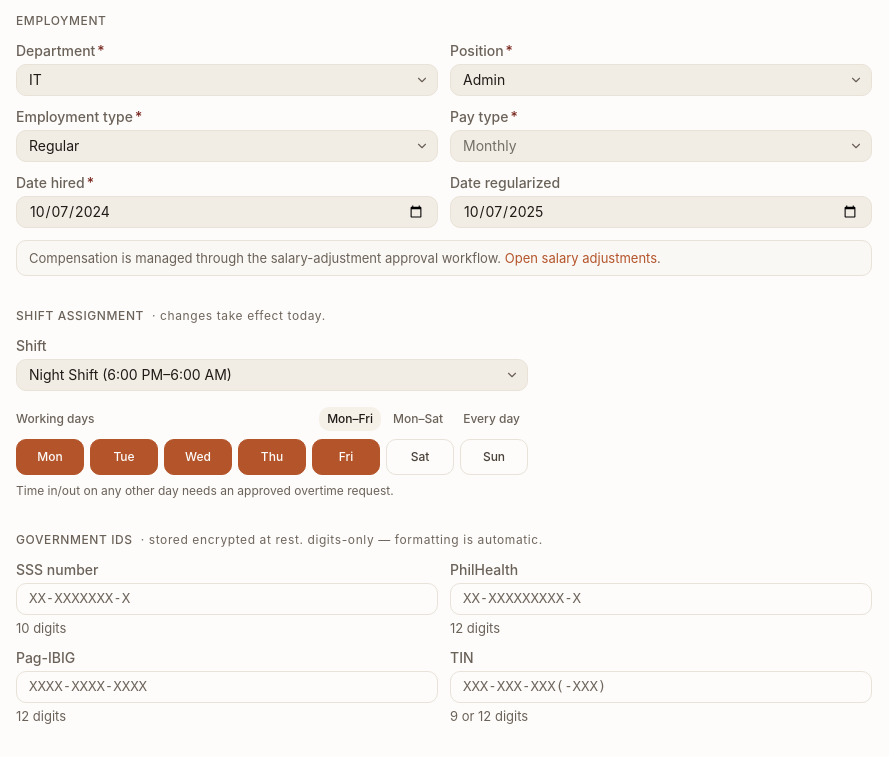
Test: EmployeeForm edit mode › explains a shift change and its start date
This screenshot has width=889, height=757.
(page scrolled)
Select "Day Shift (6:00 AM–2:00 PM)" in the dropdown labelled "Shift" at (272, 375), box [17,360,527,390]
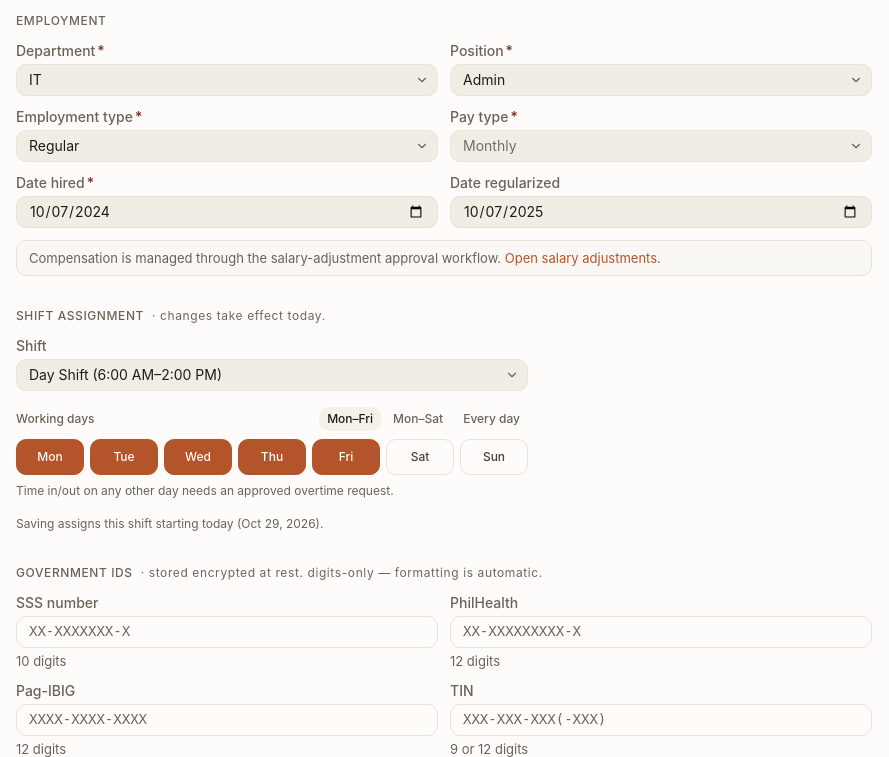
Result: the text "Saving assigns this shift starting today (Oct 29, 2026)." is shown at [16,516,324,531]
